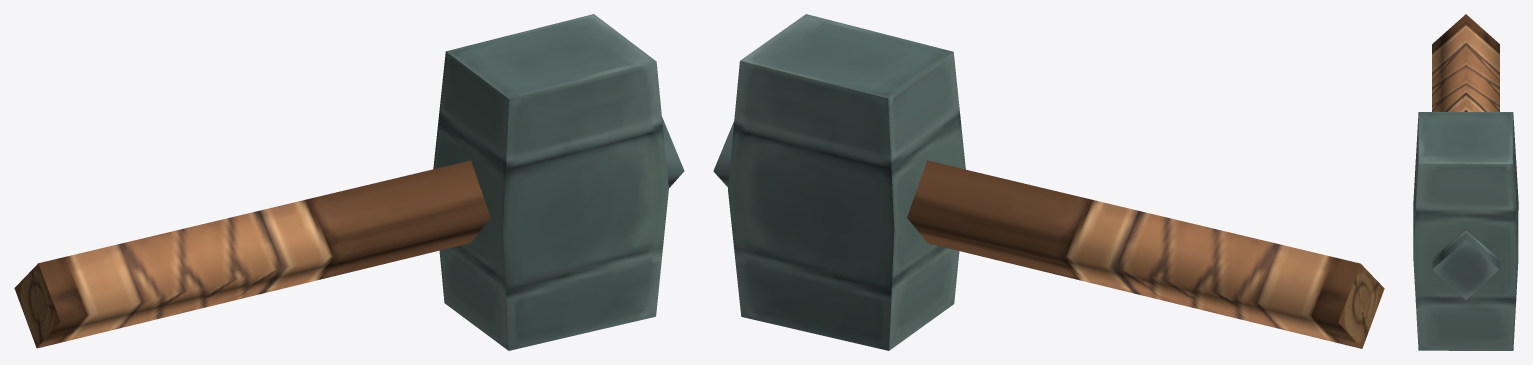
The model's file is DWF_Weapon_hammer_A.FBX.
3 views of the same model, side by side, from view 1: azimuth 30°, elevation 25°; view 2: azimuth 150°, elevation 25°; view 3: azimuth 270°, elevation 25° (orthographic). The views are drawn at different scales.
Visible parts, largest first — view 1: DWF_Weapon_hammer_A; view 2: DWF_Weapon_hammer_A; view 3: DWF_Weapon_hammer_A.
Boxes of the visible parts, <box> form: DWF_Weapon_hammer_A: <box>14,14,684,350</box>; DWF_Weapon_hammer_A: <box>713,14,1384,350</box>; DWF_Weapon_hammer_A: <box>1413,14,1518,350</box>.
Bounding box in the file's own units: 29.23 × 11.4 × 5.79.
1 material, 1 textured.
